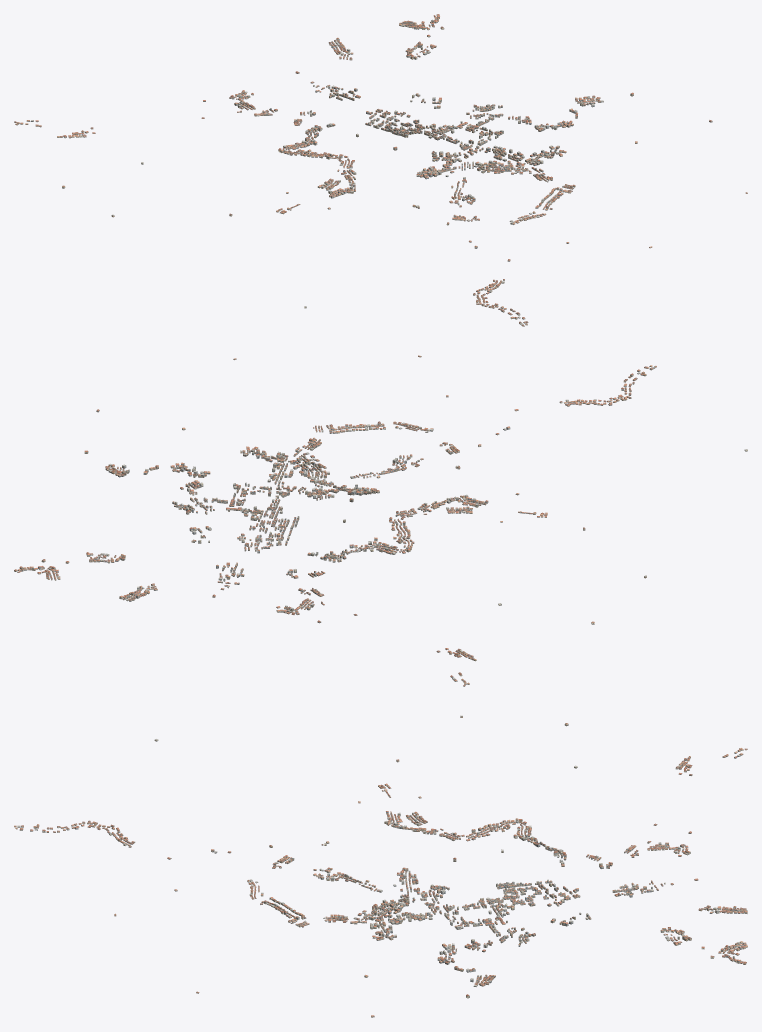
Rendered from mundo-bairros.glb.
3 renders of one model, top to bottom at view 1: azimuth 30°, elevation 25°; view 2: azimuth 150°, elevation 25°; view 3: azimuth 270°, elevation 25°, orthographic. The views are drawn at different scales.
Visible parts, largest first — view 1: Bairros; view 2: Bairros; view 3: Bairros.
Boxes of the visible parts, x1=… form: Bairros: x1=14, y1=14, x2=747, y2=326; Bairros: x1=14, y1=355, x2=747, y2=686; Bairros: x1=14, y1=715, x2=747, y2=1017.
Bounding box in the file's own units: 4323 × 127 × 4624.
1 material, 1 textured.
